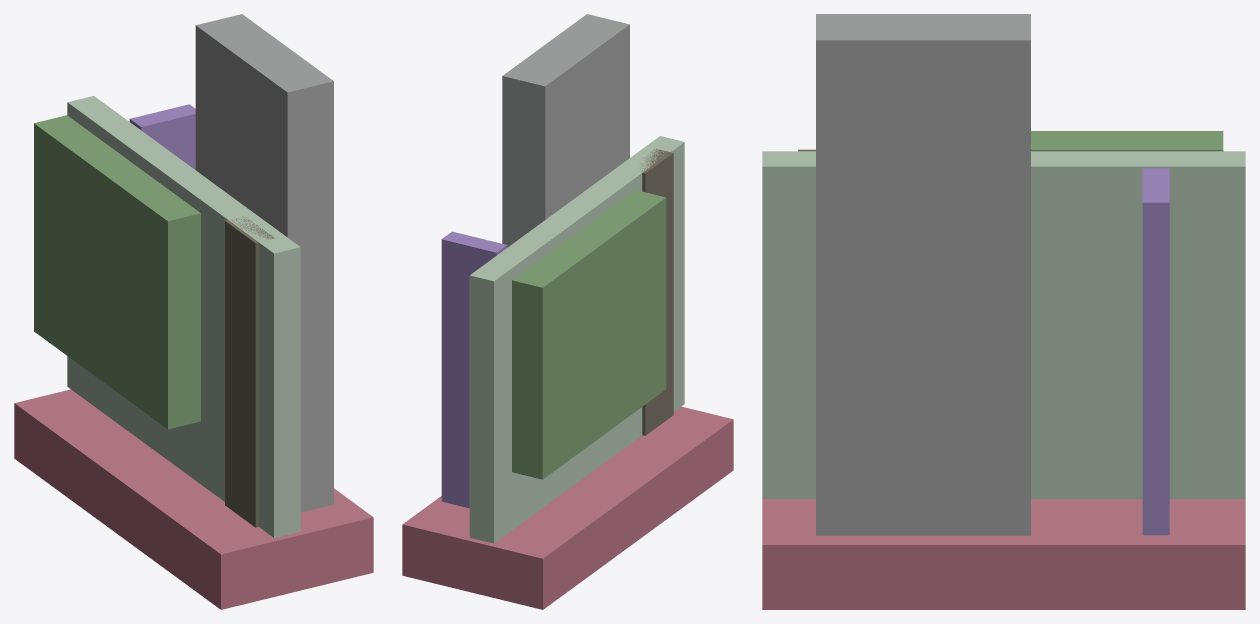
The picture shows the model from 3 angles, left to right: view 1: azimuth 30°, elevation 25°; view 2: azimuth 150°, elevation 25°; view 3: azimuth 270°, elevation 25°; orthographic projection. The views are drawn at different scales.
Visible parts, largest first — view 1: world; view 2: world; view 3: world.
Part boxes in pixels (bbox=[...]): world: bbox=[14, 14, 373, 609]; world: bbox=[402, 14, 733, 609]; world: bbox=[762, 14, 1245, 609].
Bounding box in the file's own units: 2.3 × 6.9 × 5.4.
